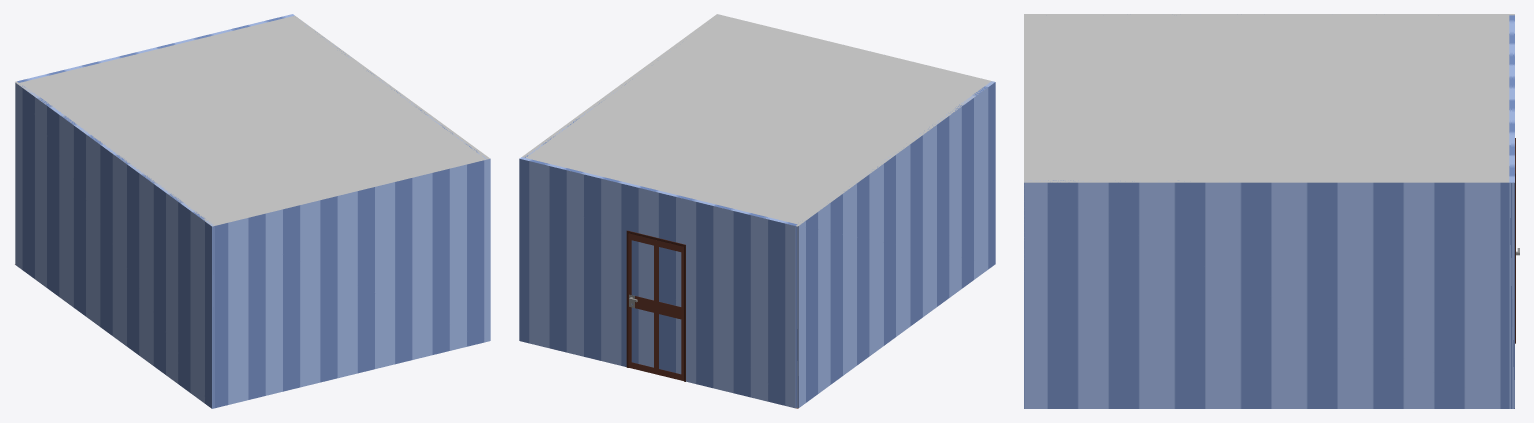
File: room.fbx
3 views of the same model, side by side, from view 1: azimuth 30°, elevation 25°; view 2: azimuth 150°, elevation 25°; view 3: azimuth 270°, elevation 25° (orthographic). The views are drawn at different scales.
Parts seen in each view (by area): view 1: obst_ceiling, obst_wall2, obst_wall1, obst_wall3; view 2: obst_ceiling, obst_wall3, obst_wall1, obst_door, door_frame; view 3: obst_wall4, obst_ceiling, obst_wall3.
Part boxes in pixels (<box>): obst_ceiling: <box>15,15,489,226</box>; obst_wall2: <box>214,158,490,408</box>; obst_wall1: <box>15,83,214,408</box>; obst_wall3: <box>17,14,294,82</box>; obst_ceiling: <box>522,14,992,226</box>; obst_wall3: <box>519,157,797,408</box>; obst_wall1: <box>796,81,995,408</box>; obst_door: <box>629,233,683,380</box>; door_frame: <box>626,230,685,381</box>; obst_wall4: <box>1024,180,1509,408</box>; obst_ceiling: <box>1024,14,1514,182</box>; obst_wall3: <box>1509,15,1514,408</box>.
Bounding box in the file's own units: 1343 × 841 × 1669.
16 materials, 1 textured.
